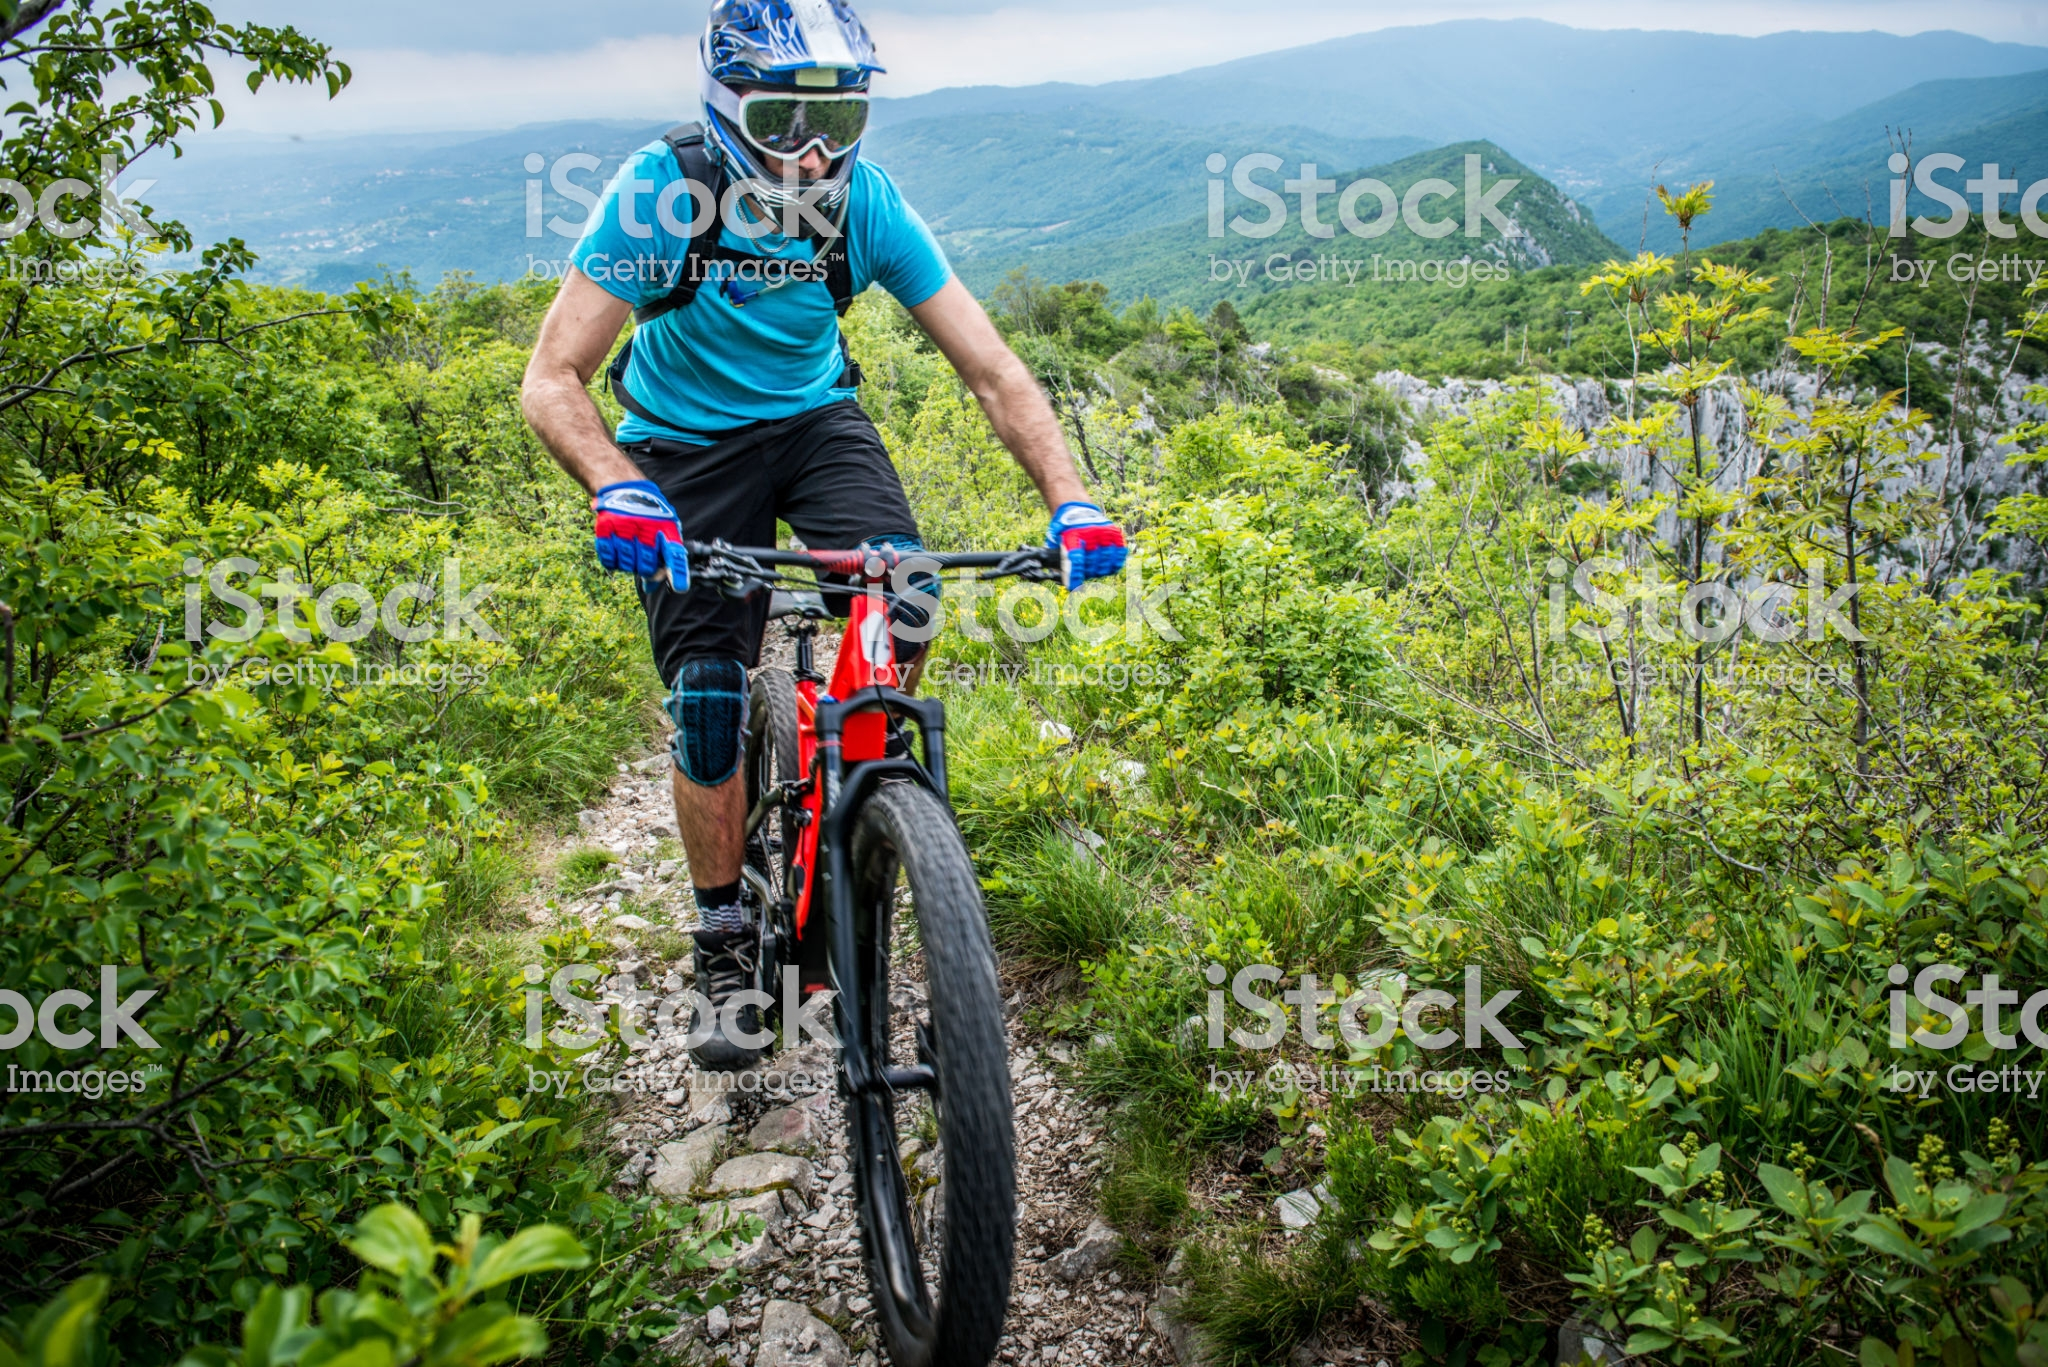helmet: (682, 9, 909, 191)
